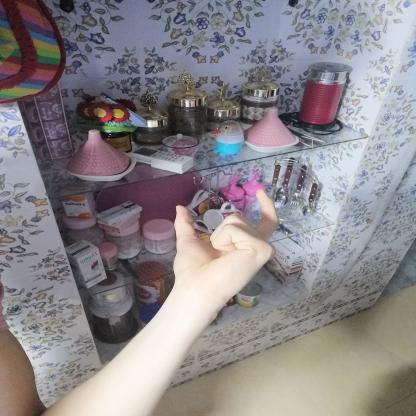NOON: (159, 182, 289, 311)
